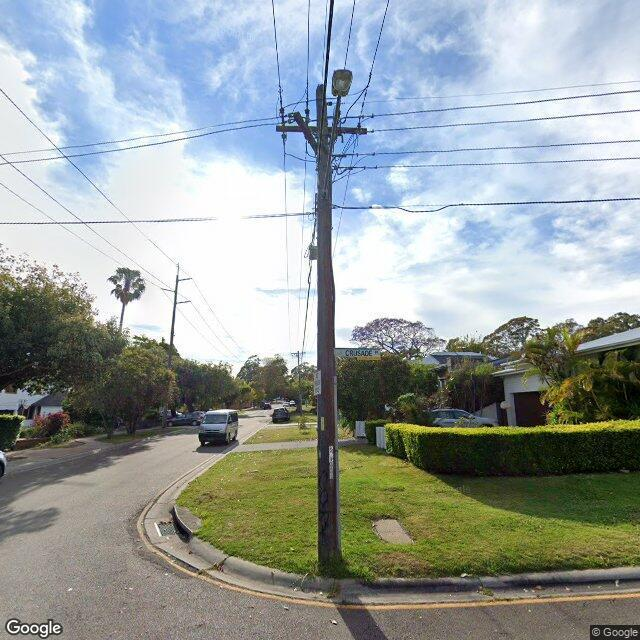HV-transmission: (160, 261, 192, 305)
crossarm: (294, 110, 318, 154), (276, 125, 367, 135), (290, 352, 306, 354)
streetlight: (322, 68, 353, 203)
timber-pole: (314, 86, 341, 569), (161, 276, 179, 429), (297, 351, 299, 366)
